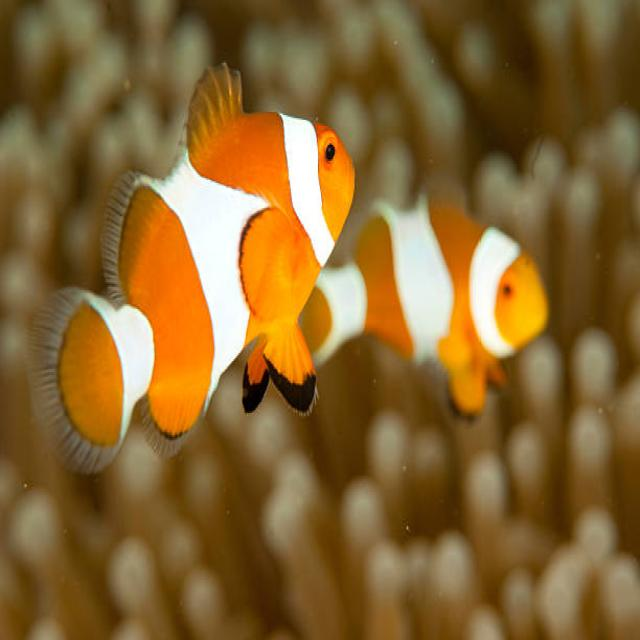ClownFish: (36, 60, 354, 438), (306, 186, 550, 418)
